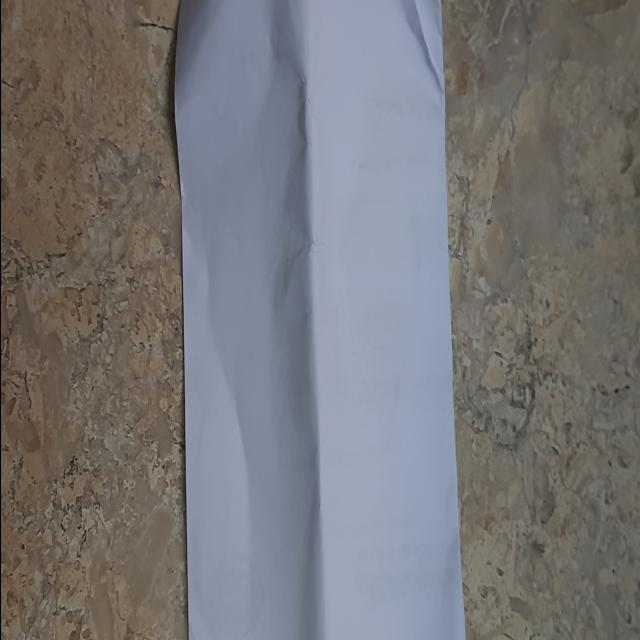paper: (167, 0, 464, 640)
